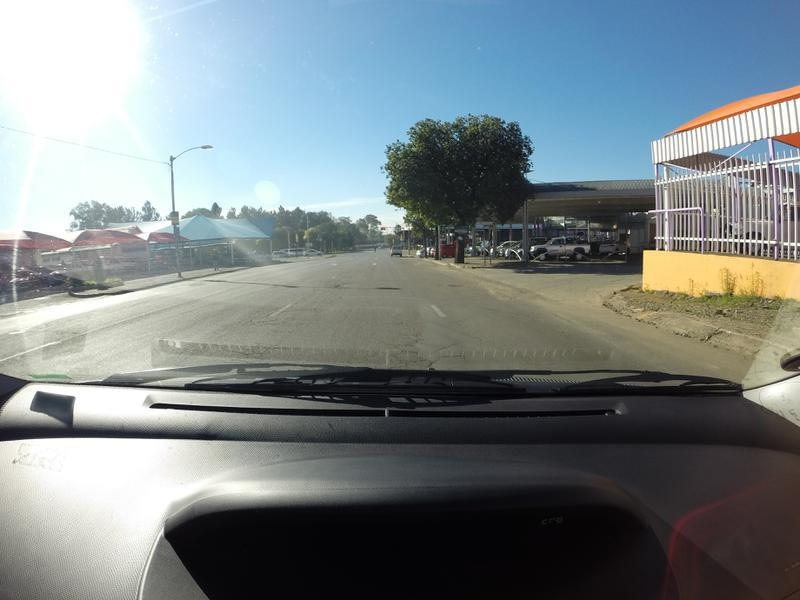pothole: (369, 284, 398, 292), (325, 284, 340, 292)
